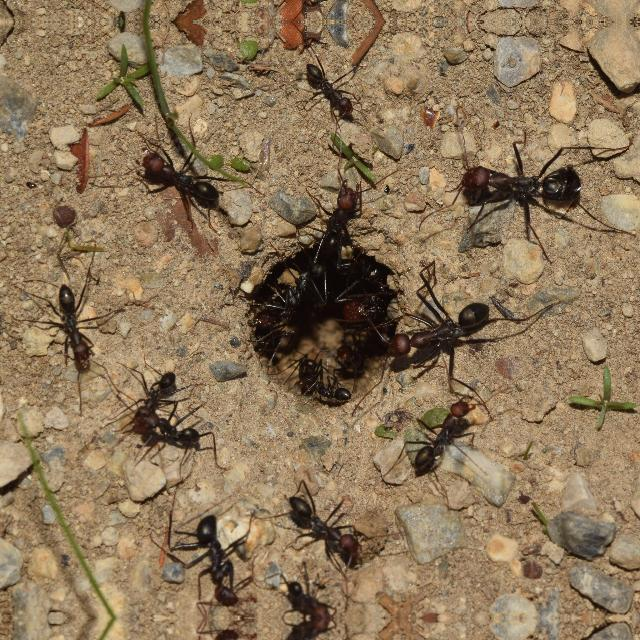Cataglyphis: (449, 147, 597, 227), (375, 290, 499, 372), (274, 484, 372, 574), (34, 272, 114, 381), (395, 390, 485, 486), (131, 136, 229, 220), (294, 170, 374, 272), (182, 506, 256, 612), (123, 396, 217, 464), (243, 266, 320, 344), (296, 51, 368, 129), (117, 358, 187, 420), (292, 348, 361, 410), (330, 268, 398, 330), (276, 571, 344, 617), (276, 618, 344, 640)
